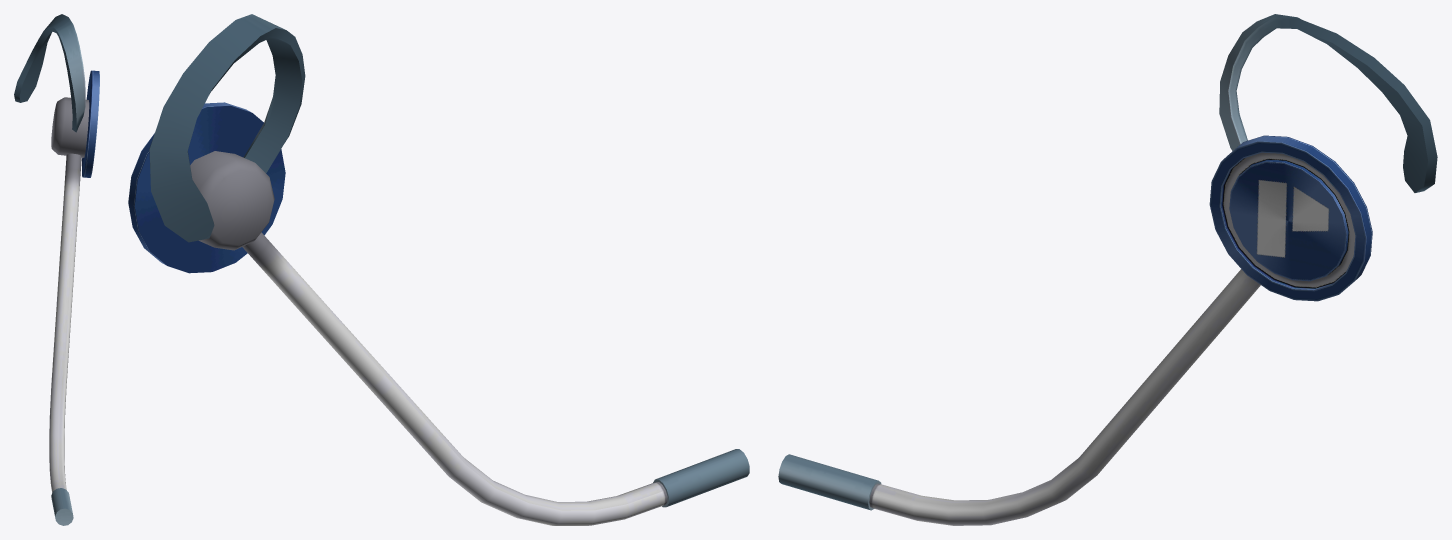
Rendered from EntrainingIntercomTetora.fbx.
3 renders of one model, left to right at view 1: azimuth 30°, elevation 25°; view 2: azimuth 150°, elevation 25°; view 3: azimuth 270°, elevation 25°, orthographic. The views are drawn at different scales.
Parts seen in each view (by area): view 1: EntrainingIntercomTetora; view 2: EntrainingIntercomTetora; view 3: EntrainingIntercomTetora.
Part boxes in pixels (x1,y1,x2,y2): EntrainingIntercomTetora: (14, 14, 99, 525); EntrainingIntercomTetora: (128, 14, 749, 525); EntrainingIntercomTetora: (778, 14, 1437, 525).
Bounding box in the file's own units: 0.0459 × 0.0749 × 0.0744.
1 material, 1 textured.
